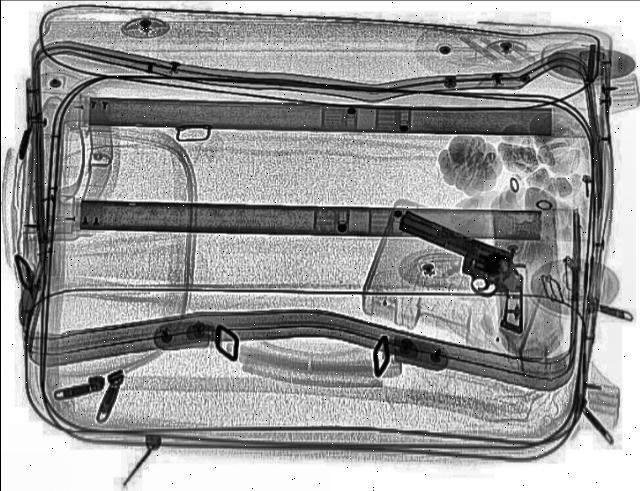Gun: (355, 206, 567, 336)
